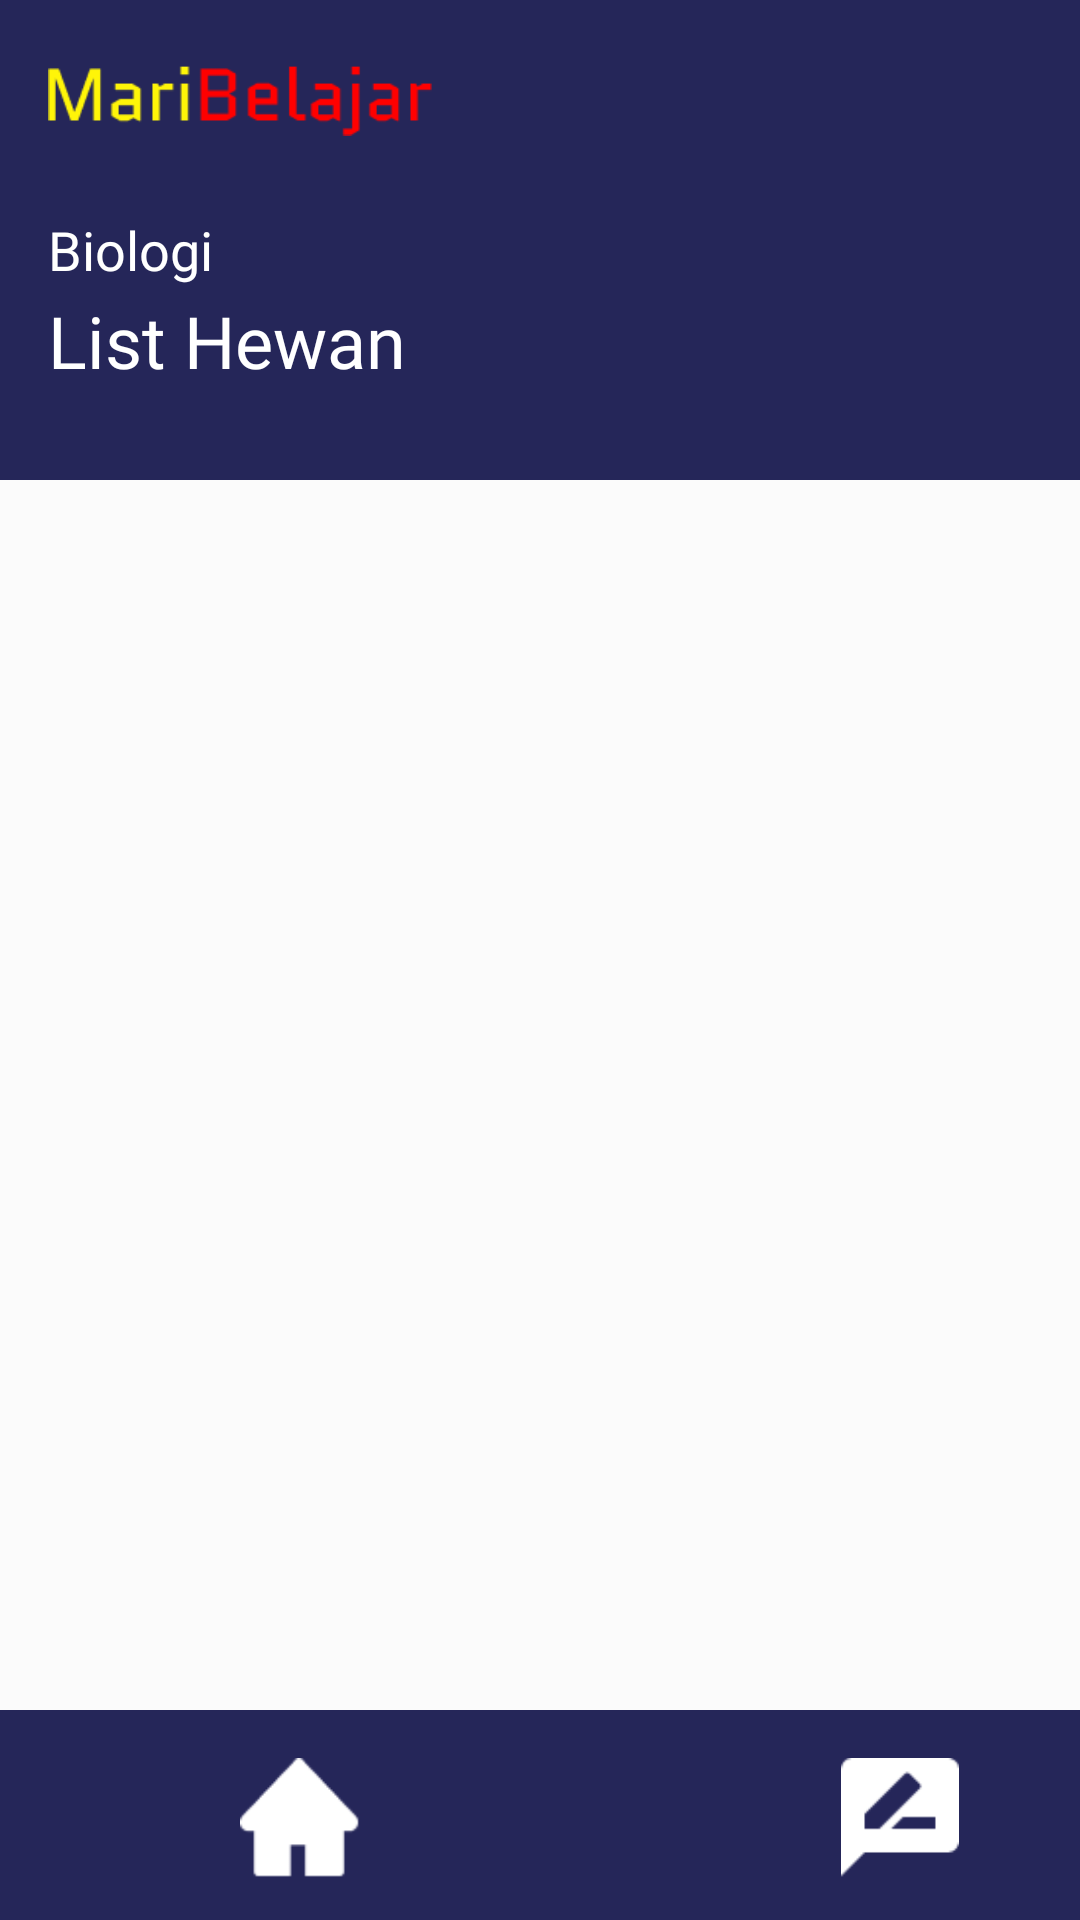

Icons on this 1080×1920 Android screen, each with the point to tap as (x=x, y=y):
home: (x=299, y=1817)
review: (x=900, y=1817)
